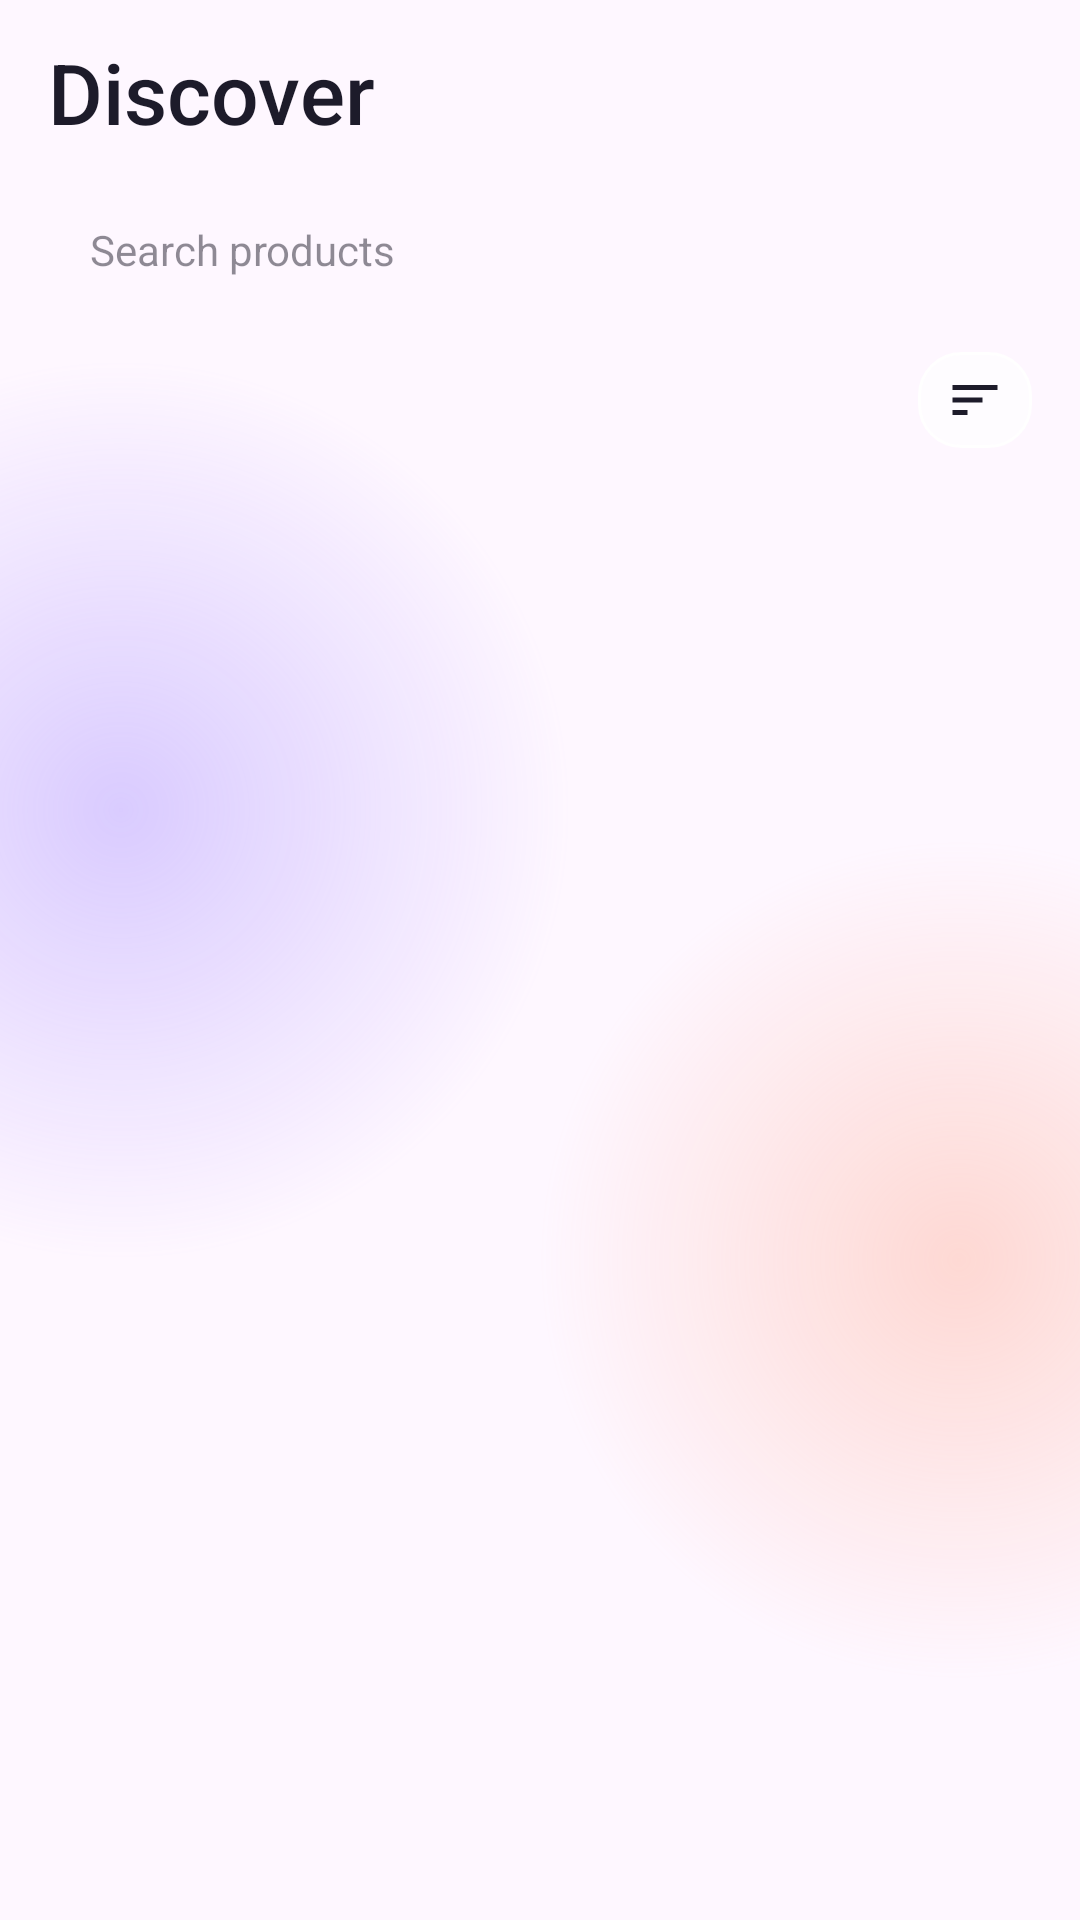

Icon click points for this 1080 × 1920 phone screenshot, format (x=x, y=y):
Sort by price: (x=975, y=400)
